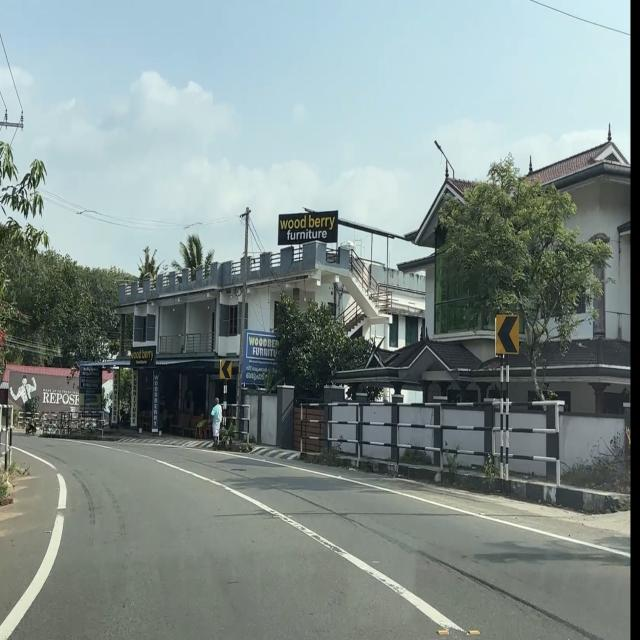TURN_LEFT: (496, 313, 520, 356), (221, 359, 232, 380)
